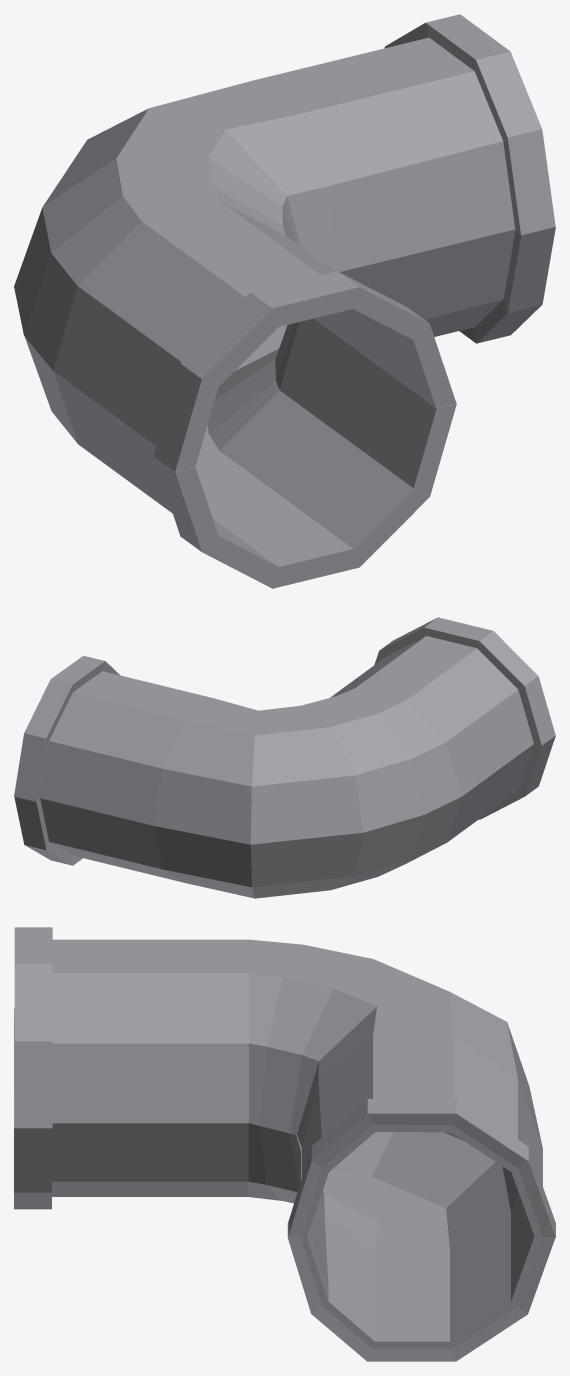
Rendered from TuberiaGrande_CurvaSeparada.fbx.
3 renders of one model, top to bottom at view 1: azimuth 30°, elevation 25°; view 2: azimuth 150°, elevation 25°; view 3: azimuth 270°, elevation 25°, orthographic. The views are drawn at different scales.
Parts seen in each view (by area): view 1: TuberiaGrande_CurvaParteAbajo1, TuberiaGrande_CurvaParteAbajo; view 2: TuberiaGrande_CurvaParteAbajo1, TuberiaGrande_CurvaParteAbajo; view 3: TuberiaGrande_CurvaParteAbajo1, TuberiaGrande_CurvaParteAbajo.
Boxes of the visible parts, x1,y1,x2,y2 form: TuberiaGrande_CurvaParteAbajo1: (14, 14, 555, 471); TuberiaGrande_CurvaParteAbajo: (24, 226, 555, 588); TuberiaGrande_CurvaParteAbajo1: (14, 617, 555, 844); TuberiaGrande_CurvaParteAbajo: (14, 735, 555, 898); TuberiaGrande_CurvaParteAbajo1: (14, 927, 555, 1237); TuberiaGrande_CurvaParteAbajo: (14, 1008, 555, 1361).
Bounding box in the file's own units: 11.66 × 5.87 × 11.63.
